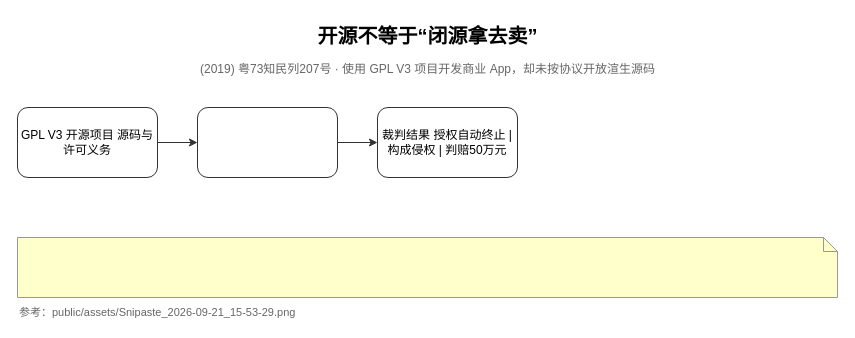
The diagram is 855 pixels wide and 338 high, and some of its shapes have lost their labels. The box of each missing label's shape, as (x1, y1, x2, y2) in pixels:
商用前审查许可证 | GPL · AGPL · Apache · MIT 义务不同: (16, 236, 838, 298)
闭源商用 App 未开放渲生源码 · 许可链断裂: (196, 106, 338, 178)
